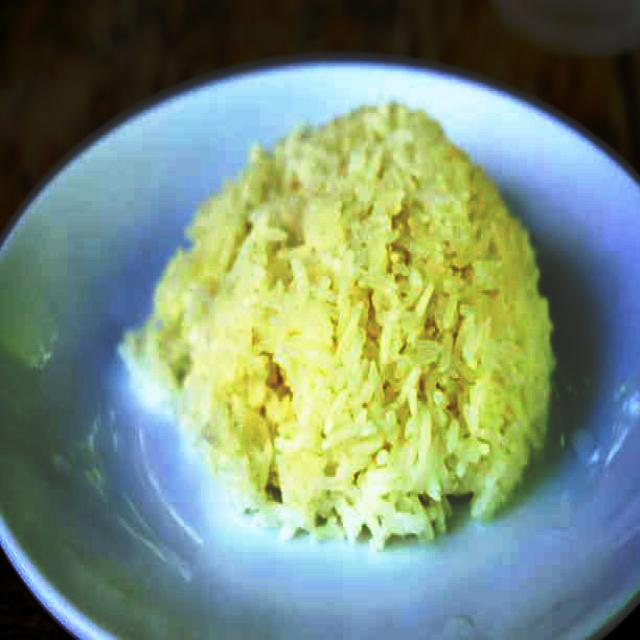rice: (120, 94, 556, 551)
